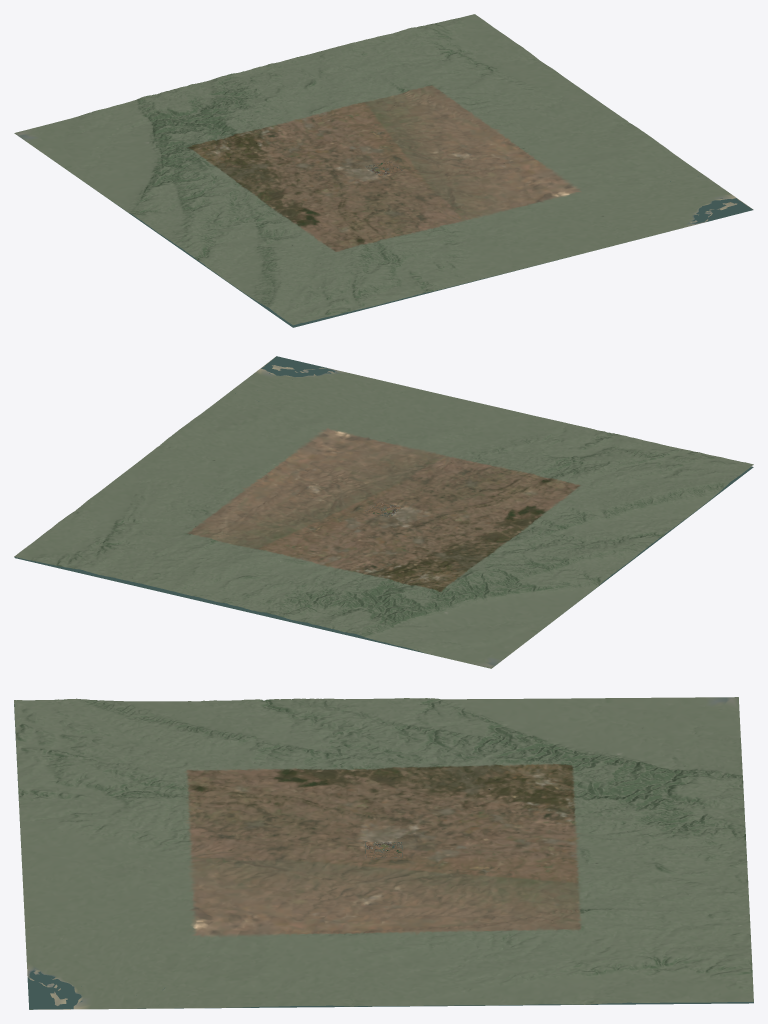
The model's file is summit_backdrop_part1.glb.
3 renders of one model, top to bottom at view 1: azimuth 30°, elevation 25°; view 2: azimuth 150°, elevation 25°; view 3: azimuth 270°, elevation 25°, orthographic. The views are drawn at different scales.
Parts seen in each view (by area): view 1: bg_far_terrain, bg_far_water; view 2: bg_far_terrain, bg_far_water; view 3: bg_far_terrain, bg_far_water, bg_near_ground.
Boxes of the visible parts, left/top/right/bottom form: bg_far_terrain: left=14, top=14, right=753, bottom=325; bg_far_water: left=71, top=161, right=752, bottom=327; bg_far_terrain: left=14, top=356, right=753, bottom=668; bg_far_water: left=14, top=356, right=753, bottom=654; bg_far_terrain: left=14, top=697, right=753, bottom=1009; bg_far_water: left=14, top=704, right=753, bottom=1009; bg_near_ground: left=365, top=842, right=402, bottom=857.
Size of the model in its own units: 61243 by 710 by 61244.
20 materials, 13 textured.
